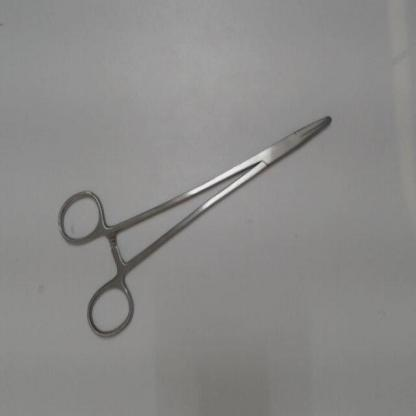8 Mayo Needle Holder: (51, 99, 344, 346)
